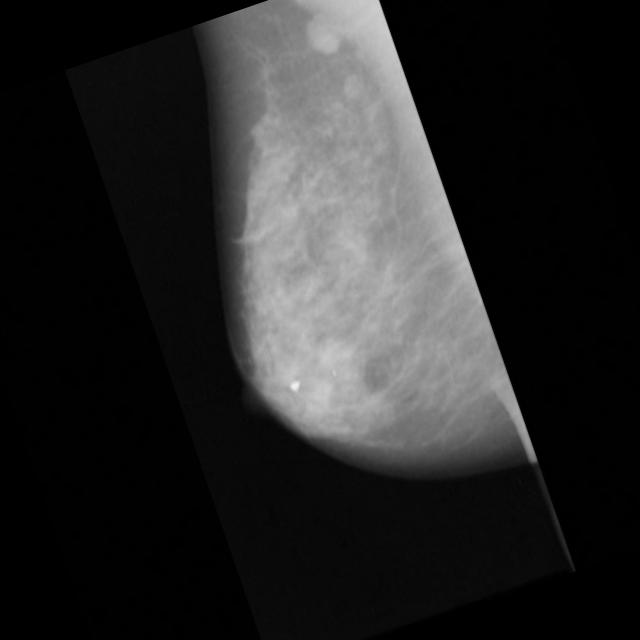CIRC: (266, 0, 380, 89)
